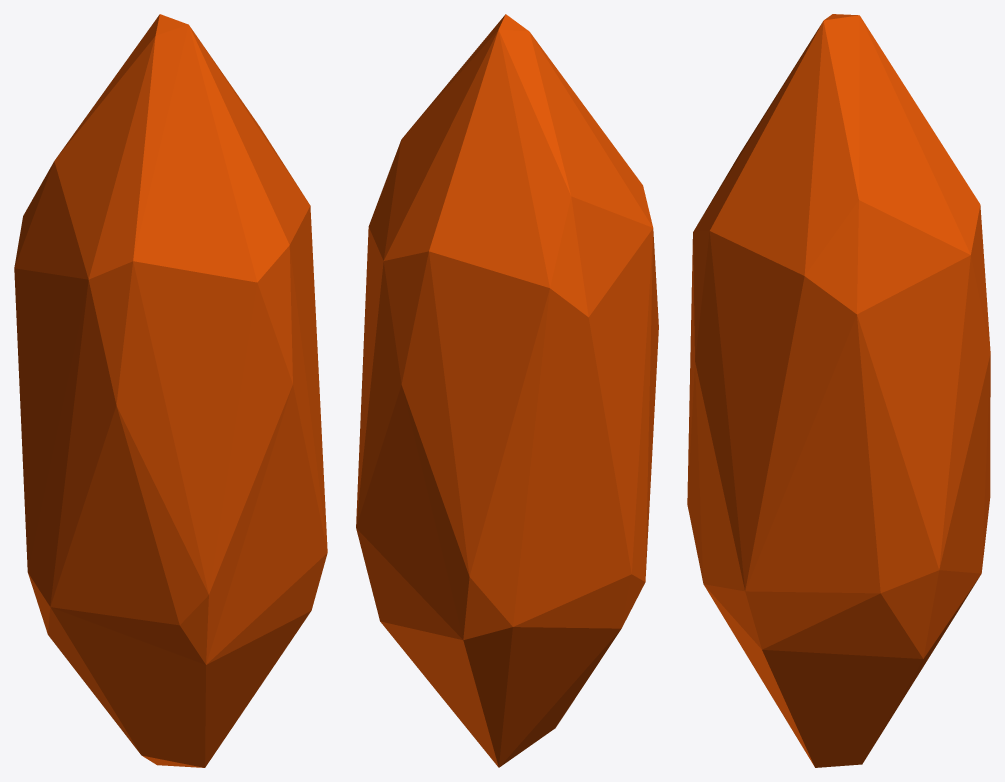
Rendered from Cristal.001.fbx.
The picture shows the model from 3 angles, left to right: view 1: azimuth 30°, elevation 25°; view 2: azimuth 150°, elevation 25°; view 3: azimuth 270°, elevation 25°; orthographic projection.
Visible parts, largest first — view 1: Cristal.001; view 2: Cristal.001; view 3: Cristal.001.
Part boxes in pixels (left/top/right/bottom): Cristal.001: left=14, top=14, right=327, bottom=767; Cristal.001: left=356, top=14, right=658, bottom=767; Cristal.001: left=687, top=14, right=990, bottom=767.
Bounding box in the file's own units: 164 × 440 × 161.
